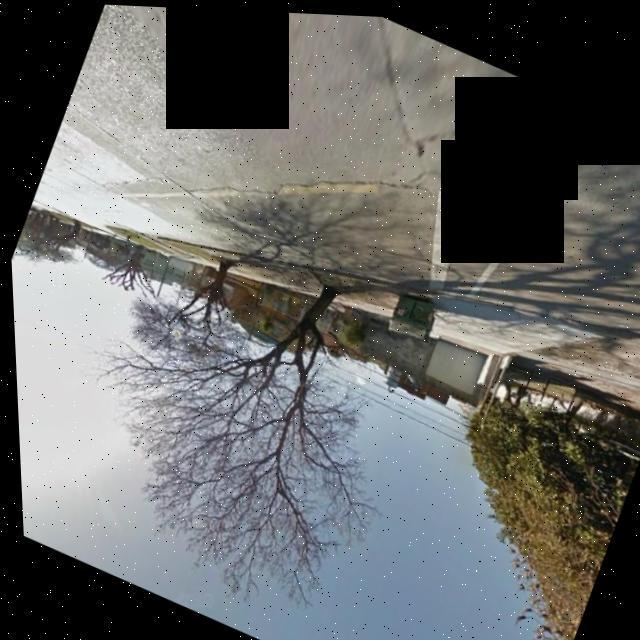bin: (373, 274, 450, 352)
